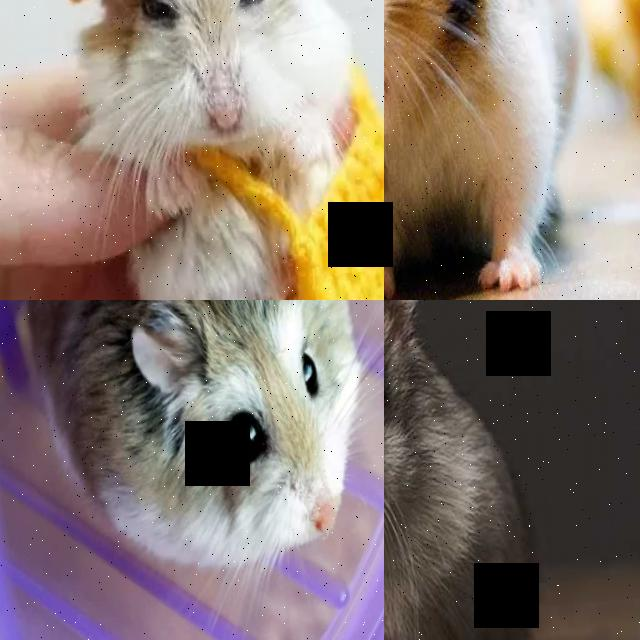hamster: (7, 300, 379, 590), (80, 0, 381, 300), (384, 0, 605, 300), (384, 300, 553, 640)
